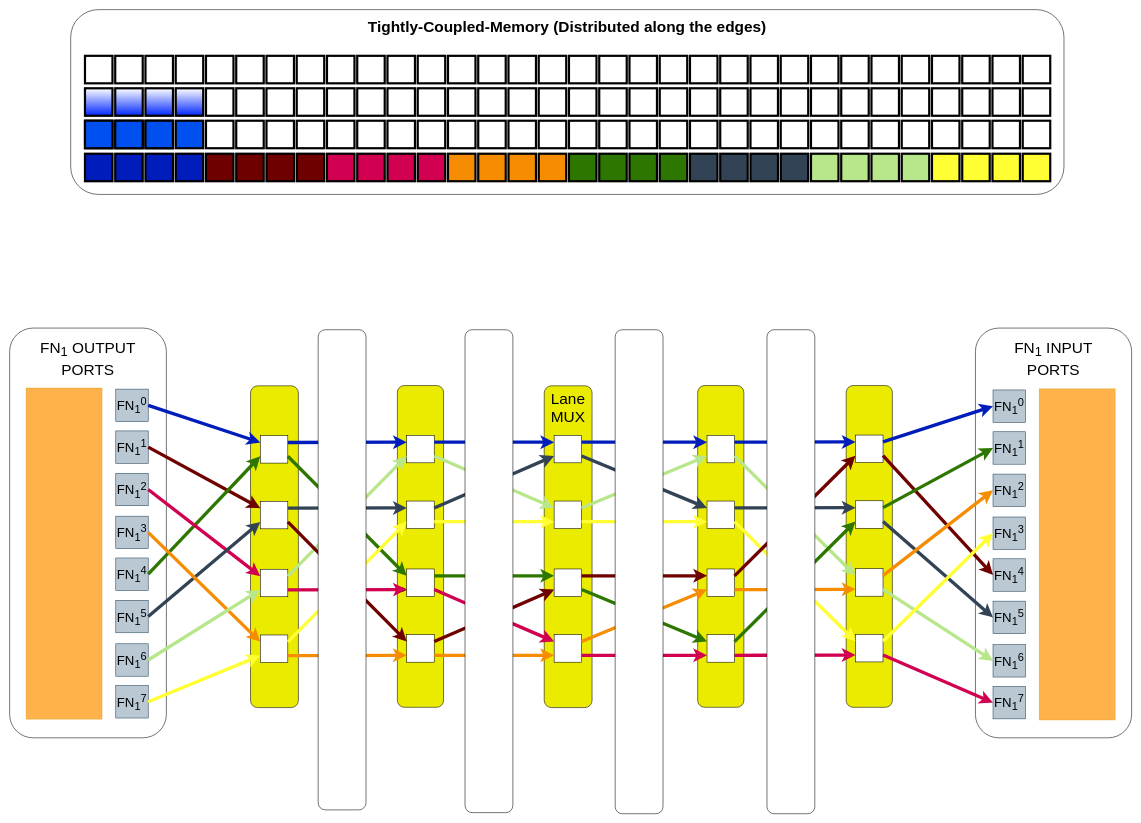
The diagram is 1141 pixels wide and 823 high, and some of its shapes have lost their labels. Here are the shapes that lost their labels. From the top down, the centre of each, then its label:
(64,553): Serializer + Inverter
(1077,554): De-Serializer + CPA (Built in Carry Shifter) + Compare
